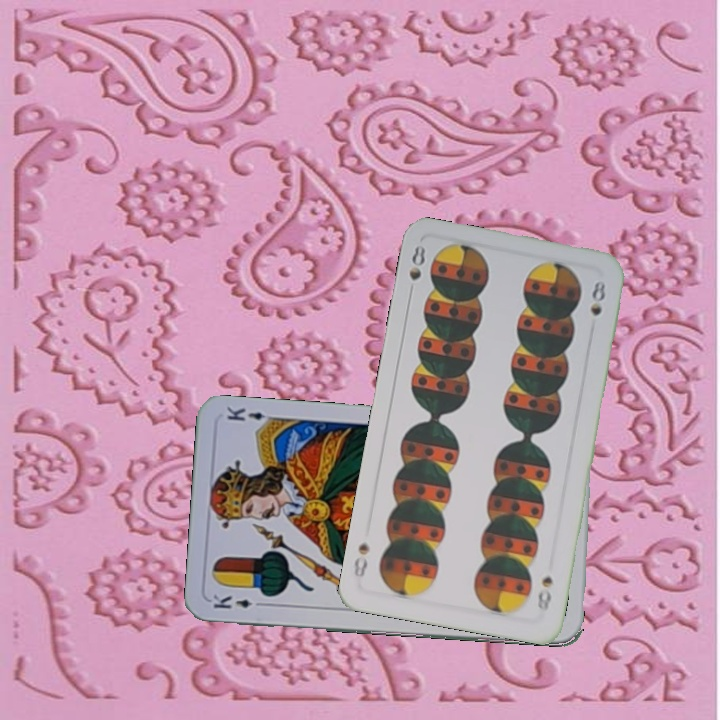EK: (209, 590, 268, 611)
S8: (403, 241, 428, 300), (533, 572, 555, 615)
